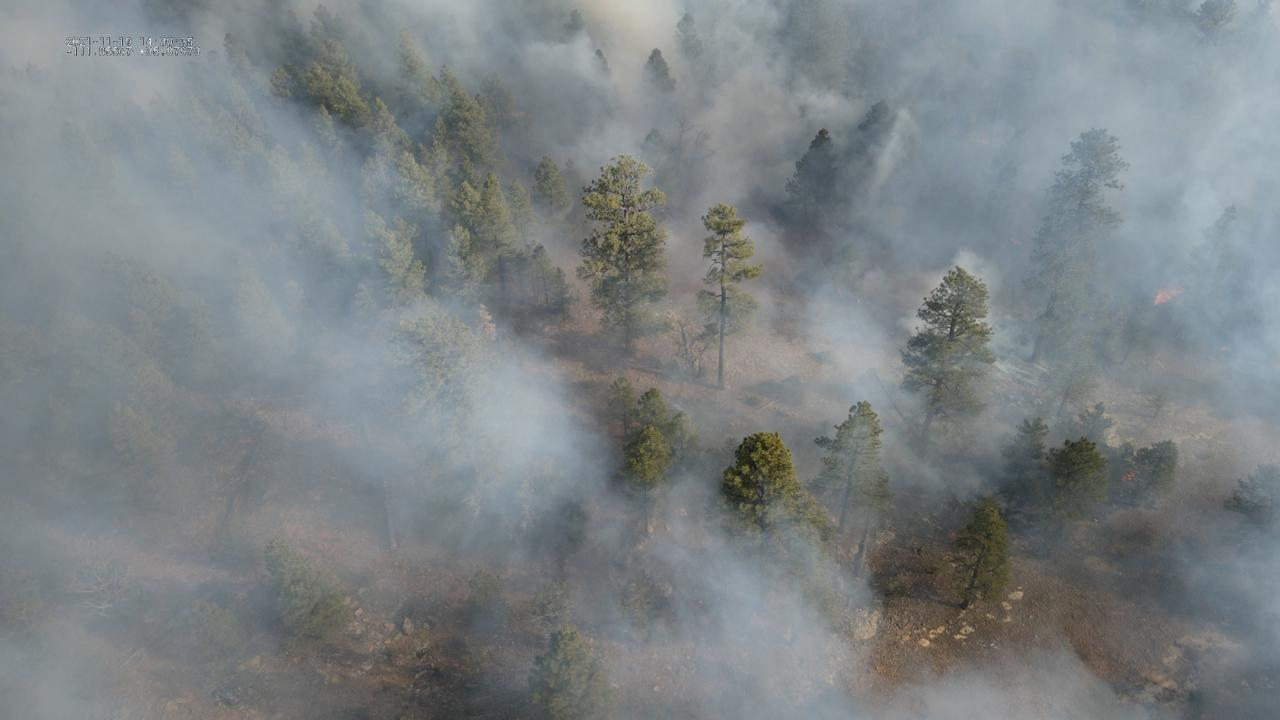fire: (1151, 285, 1187, 307), (1121, 470, 1136, 482)
smoke: (0, 0, 1280, 720)
